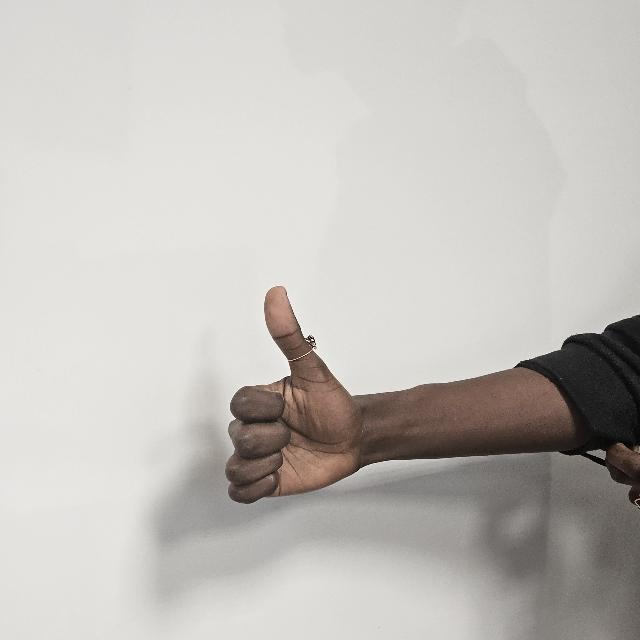Start: (226, 280, 412, 548)
